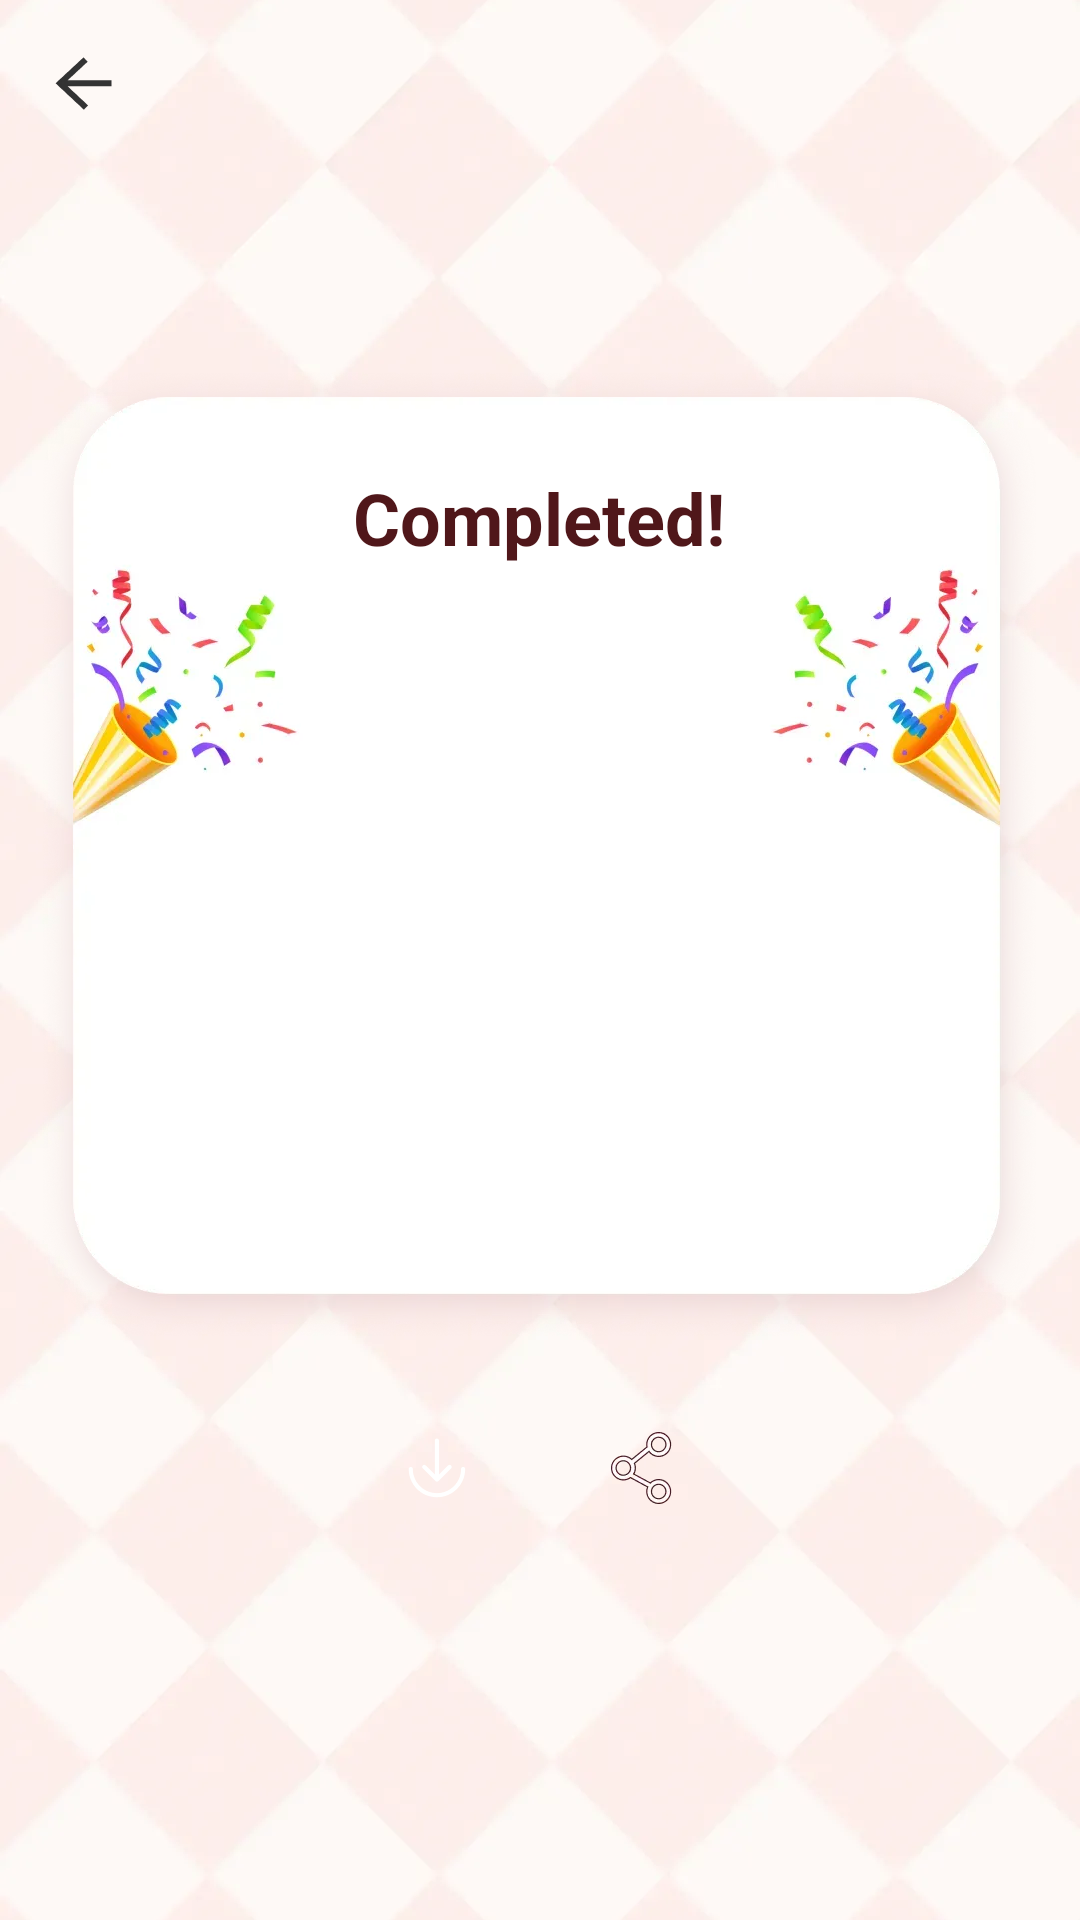

Screen size 1080px×1920px. Icon name, then its box in pixels as (x1,y1,x2,y2):
back: (0,0,168,160)
result share: (611,1432,672,1504)
